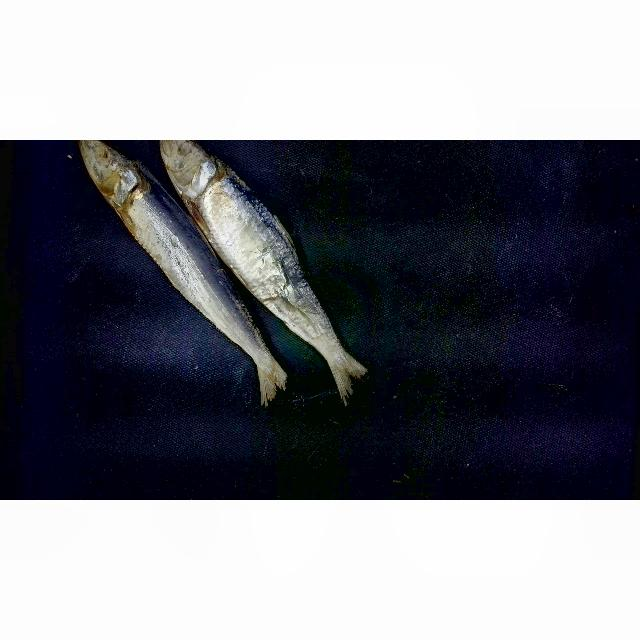Grade_A_Body: (117, 217, 260, 354), (182, 196, 343, 313)
Grade_A_Head: (154, 140, 254, 188), (75, 143, 149, 206)
Grade_A_Tail: (198, 323, 311, 408), (281, 316, 391, 402)
